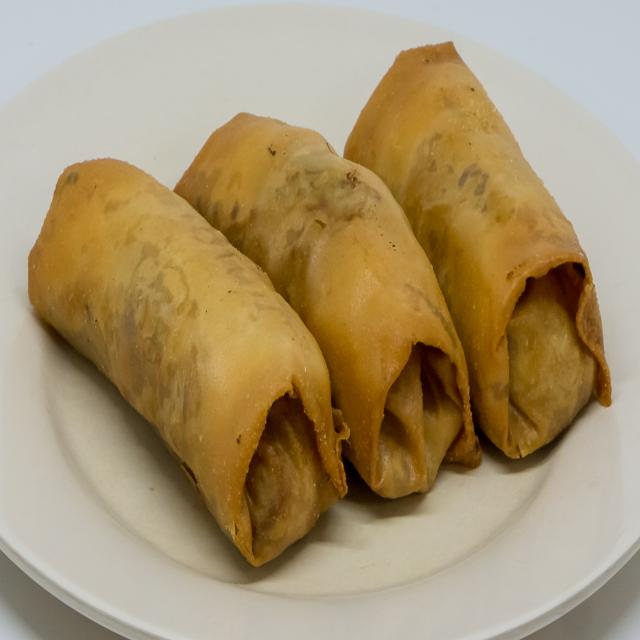Lumpia-Semarang: (22, 19, 617, 562)
